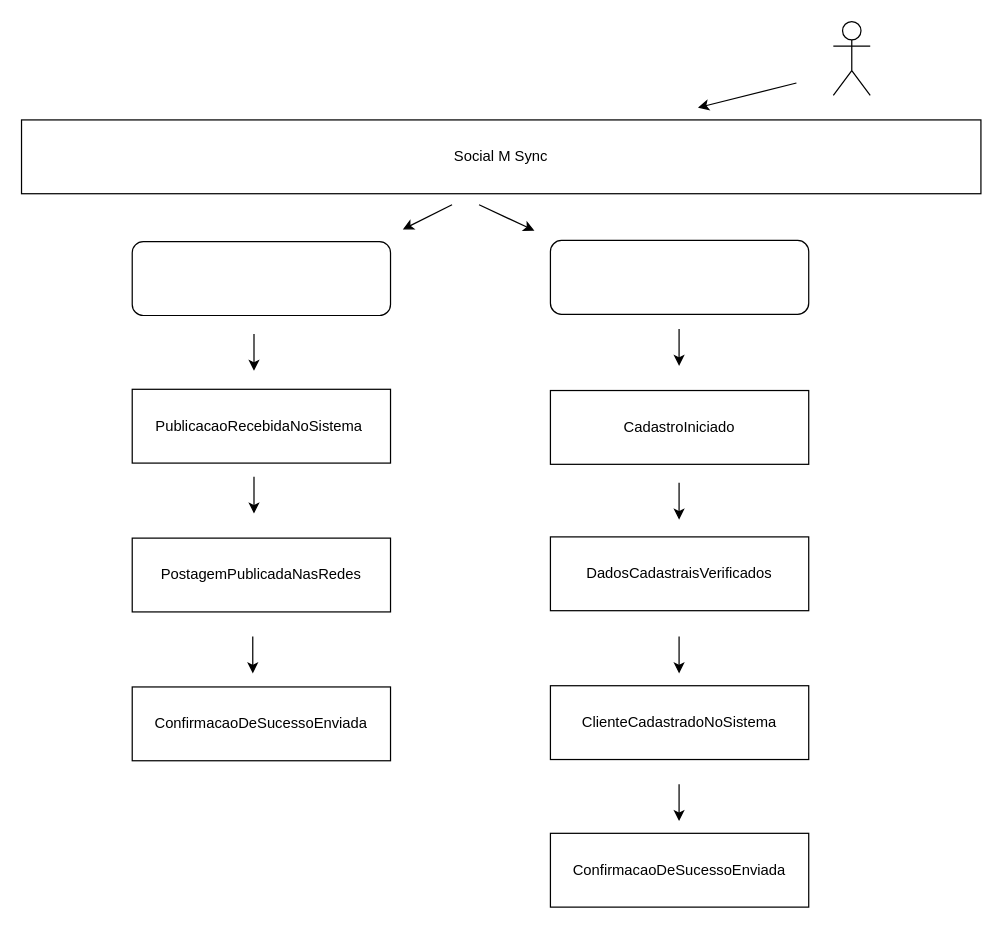
Some shapes in this 1002 by 929 pixel diagram are drawn without their labels. The shapes that lost their labels are listed below. From the top down, each one's box as (x1, y1, x2, y2) in pixels, then its label:
(832, 20, 870, 95): Cliente
(131, 240, 391, 315): PostagemSolicitada
(549, 239, 809, 314): CadastroSolicitado
